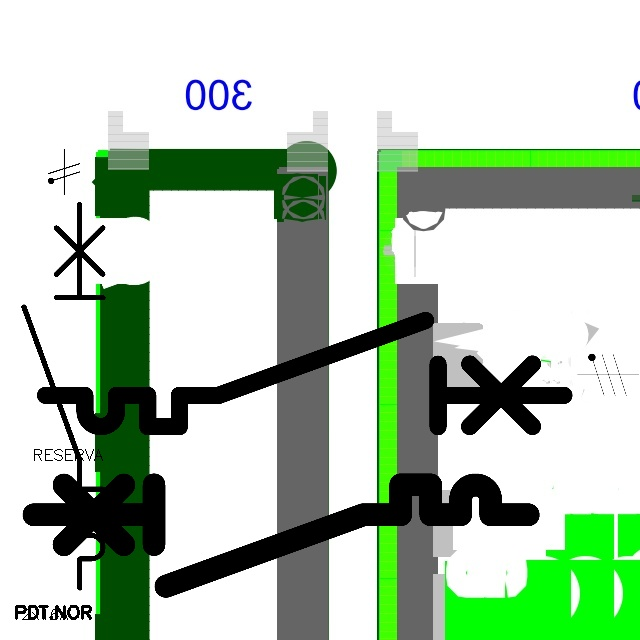interruptor_termomagnetico: (32, 307, 577, 440), (21, 472, 541, 599), (14, 194, 113, 598)
